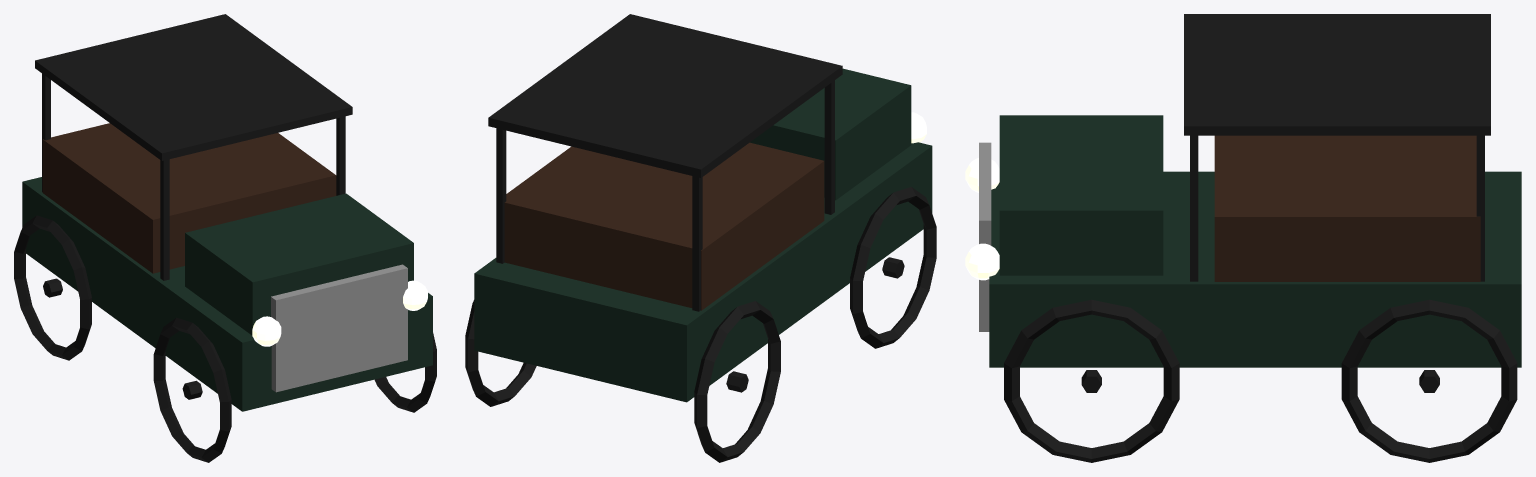
File: automobil.glb
3 renders of one model, left to right at view 1: azimuth 30°, elevation 25°; view 2: azimuth 150°, elevation 25°; view 3: azimuth 270°, elevation 25°, orthographic. The views are drawn at different scales.
Visible parts, largest first — view 1: automobil; view 2: automobil; view 3: automobil.
Boxes of the visible parts, bbox=[...] form: automobil: bbox=[14, 14, 436, 462]; automobil: bbox=[465, 14, 936, 462]; automobil: bbox=[965, 14, 1521, 462].
Bounding box in the file's own units: 1.48 × 1.79 × 2.72.
